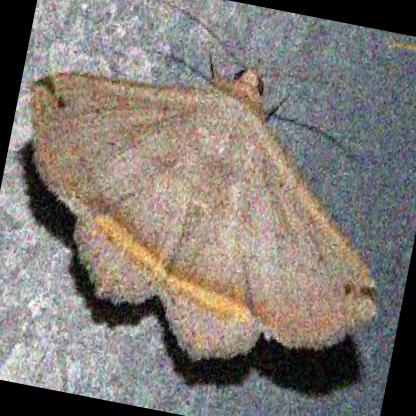Leaf Webber: (26, 62, 378, 369)
